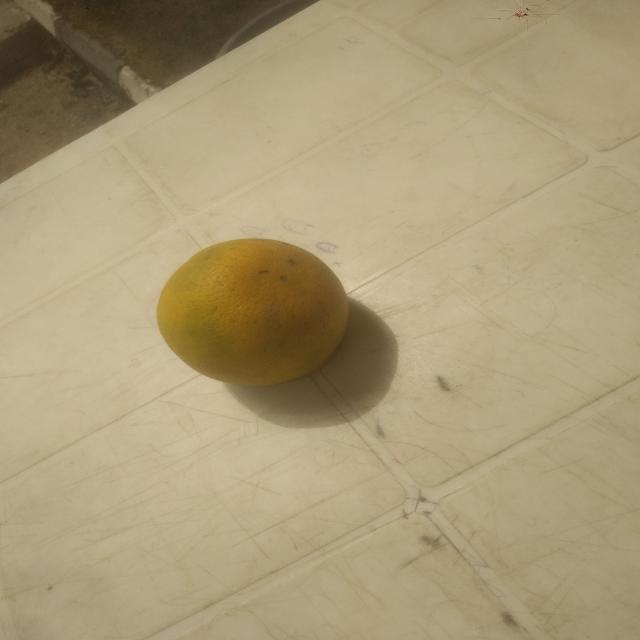Ripe orange: (142, 228, 367, 397)
